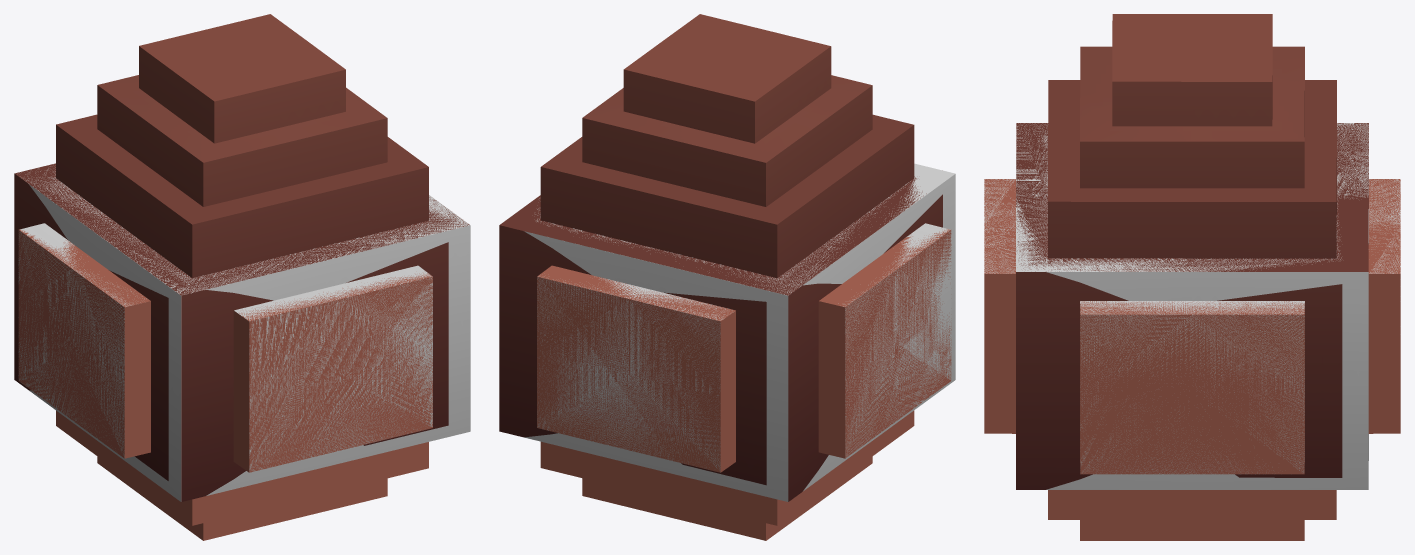
Rendered from Forest.fbx.
The picture shows the model from 3 angles, left to right: view 1: azimuth 30°, elevation 25°; view 2: azimuth 150°, elevation 25°; view 3: azimuth 270°, elevation 25°; orthographic projection. The views are drawn at different scales.
Visible parts, largest first — view 1: Bear_Egg, Chicken_Egg; view 2: Bear_Egg, Chicken_Egg; view 3: Bear_Egg, Chicken_Egg.
Boxes of the visible parts, x1,y1,x2,y2 form: Bear_Egg: [14, 14, 469, 540]; Chicken_Egg: [15, 163, 470, 501]; Bear_Egg: [499, 14, 951, 540]; Chicken_Egg: [508, 163, 955, 501]; Bear_Egg: [984, 14, 1400, 540]; Chicken_Egg: [984, 123, 1400, 489].
Size of the model in its own units: 78.02 by 92.07 by 78.02.
